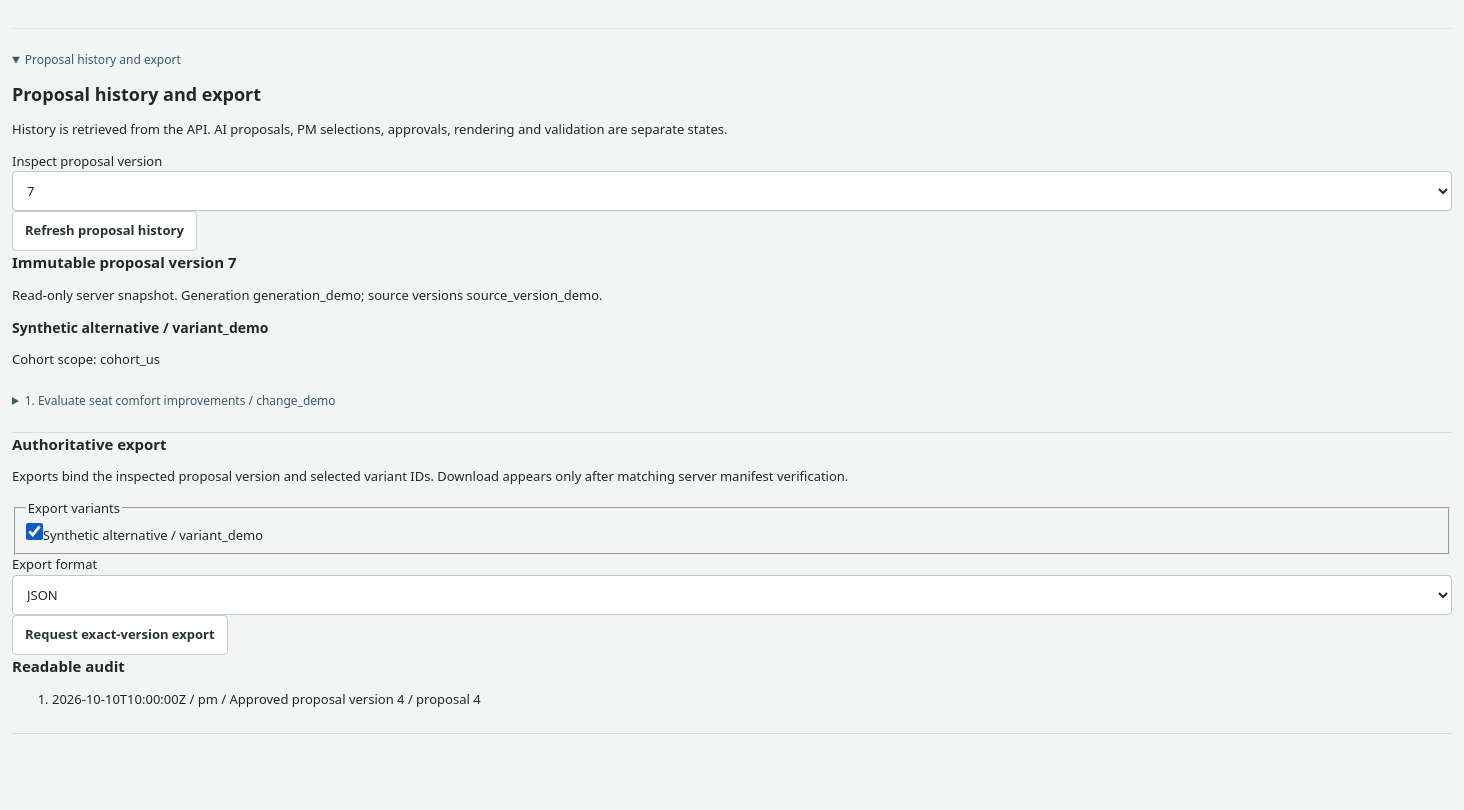
Test case: includes published revisions without decision audit entries
Expected: the heading "Immutable proposal version 7" is shown, [12,252,236,272]
Select "6" in the dropdown labelled "Inspect proposal version" at {"x": 732, "y": 191}, box [12,171,1452,211]
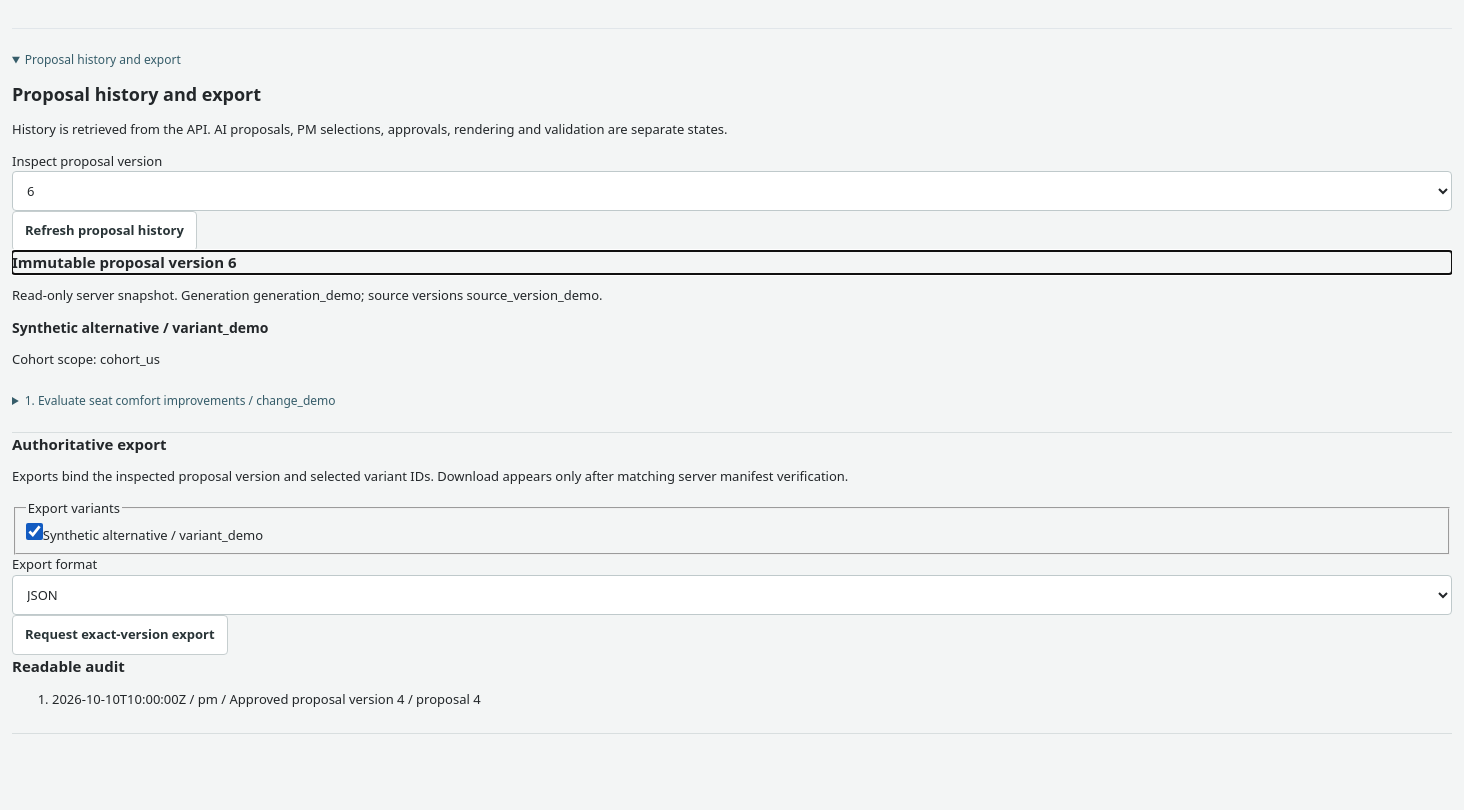
Now the heading "Immutable proposal version 6" is shown, box [12,252,236,272]
